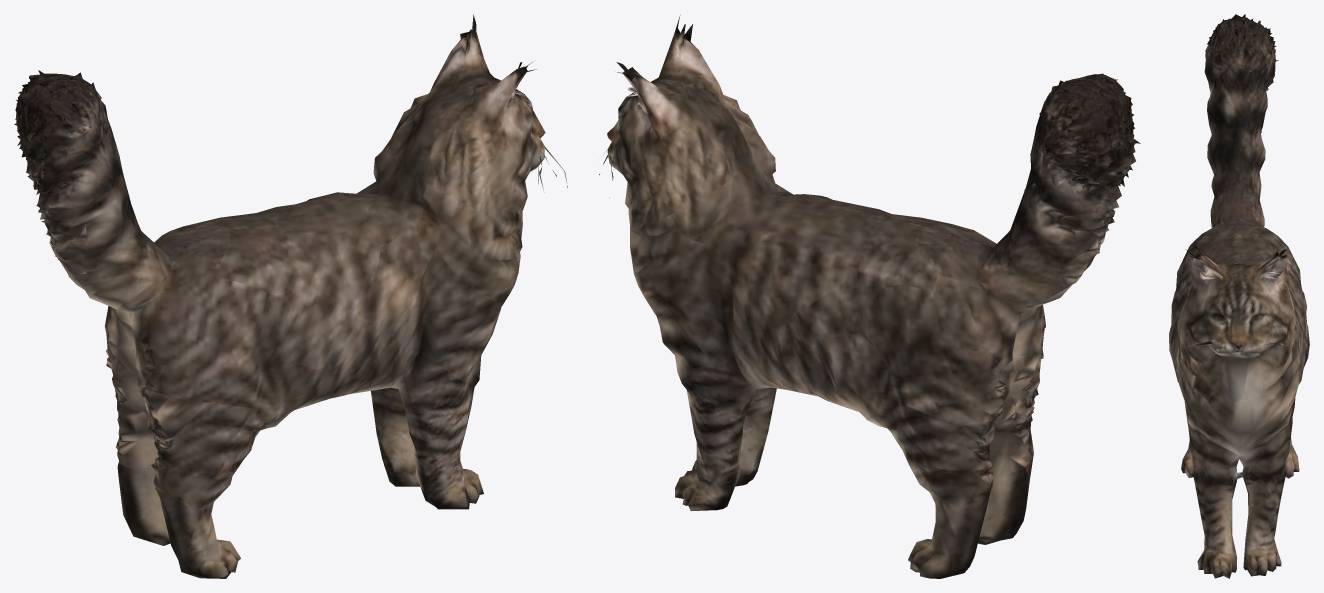
Rendered from ATTLEECAT-lo.glb.
The picture shows the model from 3 angles, left to right: view 1: azimuth 30°, elevation 25°; view 2: azimuth 150°, elevation 25°; view 3: azimuth 270°, elevation 25°; orthographic projection. The views are drawn at different scales.
Parts seen in each view (by area): view 1: tripo_node_d50caa79-645e-46b3-8231-22bbbb42d1b3; view 2: tripo_node_d50caa79-645e-46b3-8231-22bbbb42d1b3; view 3: tripo_node_d50caa79-645e-46b3-8231-22bbbb42d1b3.
Part boxes in pixels (x1,y1,x2,y2): tripo_node_d50caa79-645e-46b3-8231-22bbbb42d1b3: (14, 14, 567, 578); tripo_node_d50caa79-645e-46b3-8231-22bbbb42d1b3: (599, 15, 1140, 578); tripo_node_d50caa79-645e-46b3-8231-22bbbb42d1b3: (1169, 14, 1309, 578).
Bounding box in the file's own units: 1.07 × 0.9947 × 0.3153.
Materials: 1 (1 with a texture image).
